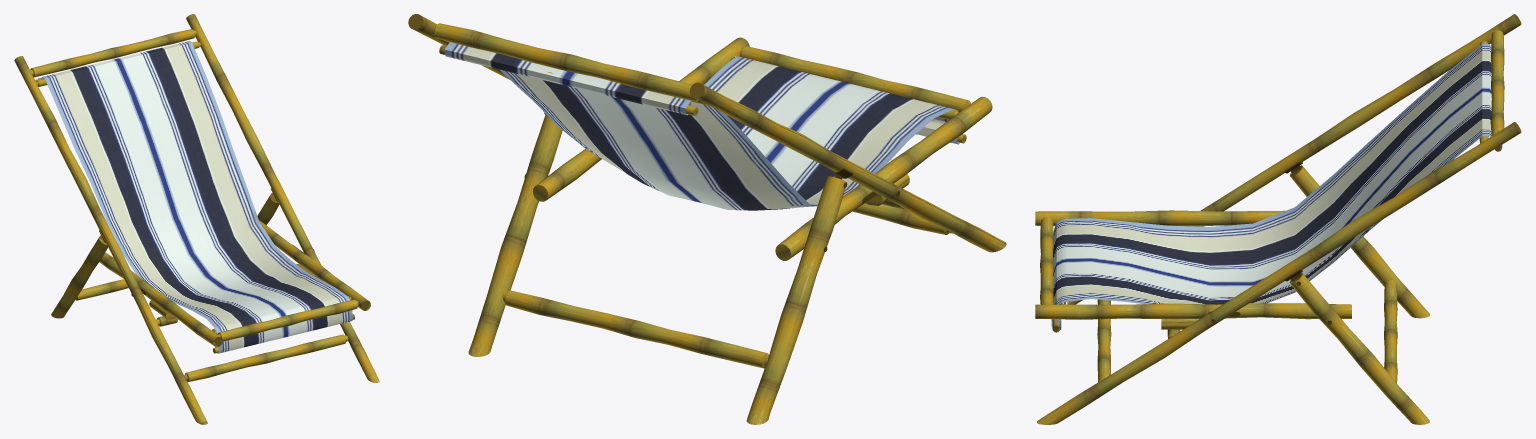
The model's file is beach_chair.glb.
3 views of the same model, side by side, from view 1: azimuth 30°, elevation 25°; view 2: azimuth 150°, elevation 25°; view 3: azimuth 270°, elevation 25° (orthographic). The views are drawn at different scales.
Visible parts, largest first — view 1: BeachChair; view 2: BeachChair; view 3: BeachChair.
Boxes of the visible parts, x1,y1,x2,y2 form: BeachChair: [14, 14, 379, 424]; BeachChair: [408, 14, 1006, 424]; BeachChair: [1035, 14, 1521, 424].
Bounding box in the file's own units: 0.8165 × 0.9914 × 1.46.
1 material, 1 textured.
